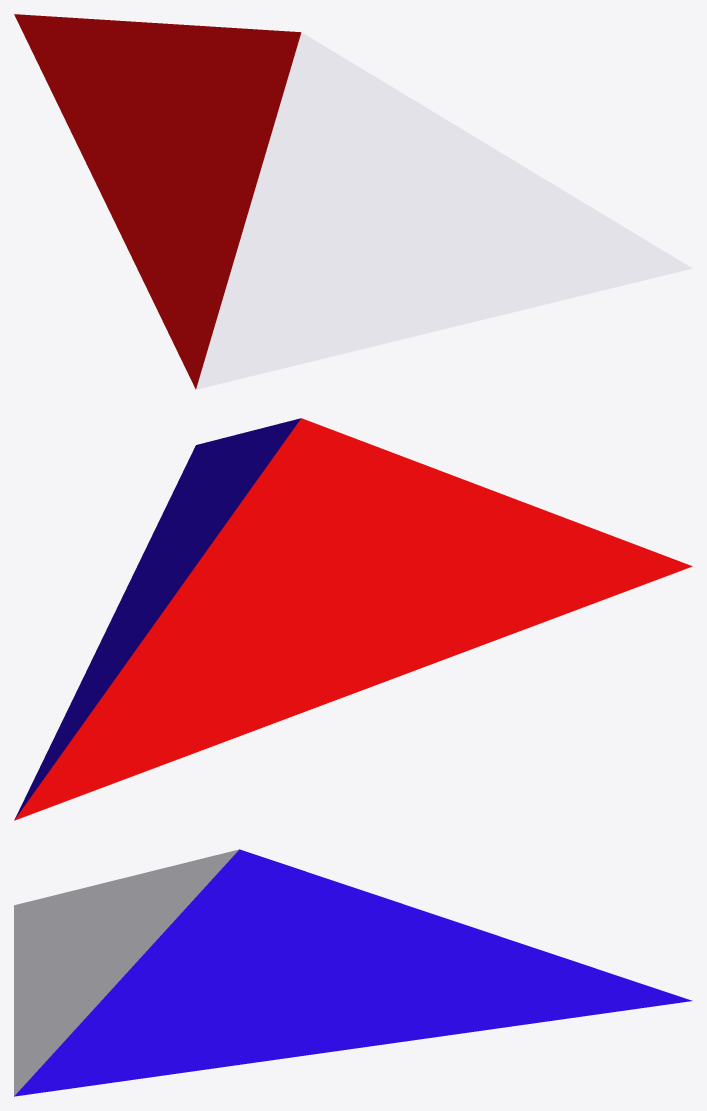
Rendered from turtle.fbx.
The picture shows the model from 3 angles, top to bottom: view 1: azimuth 30°, elevation 25°; view 2: azimuth 150°, elevation 25°; view 3: azimuth 270°, elevation 25°; orthographic projection. The views are drawn at different scales.
Visible parts, largest first — view 1: Plane; view 2: Plane; view 3: Plane.
Boxes of the visible parts, x1,y1,x2,y2 form: Plane: [14, 14, 692, 389]; Plane: [14, 418, 692, 820]; Plane: [14, 849, 692, 1096].
Bounding box in the file's own units: 200 × 300 × 73.94.
